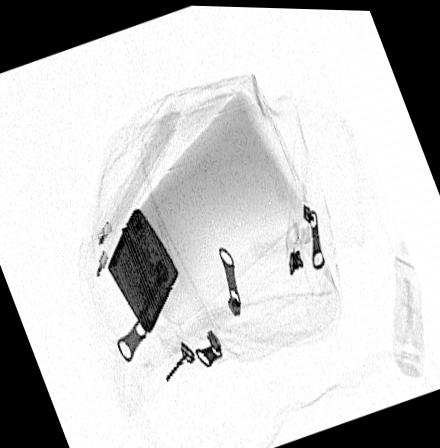Lighter: (105, 207, 178, 334)
